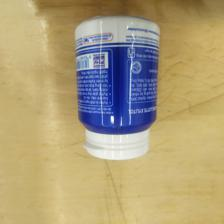Xylitol_blue: (73, 16, 159, 160)
